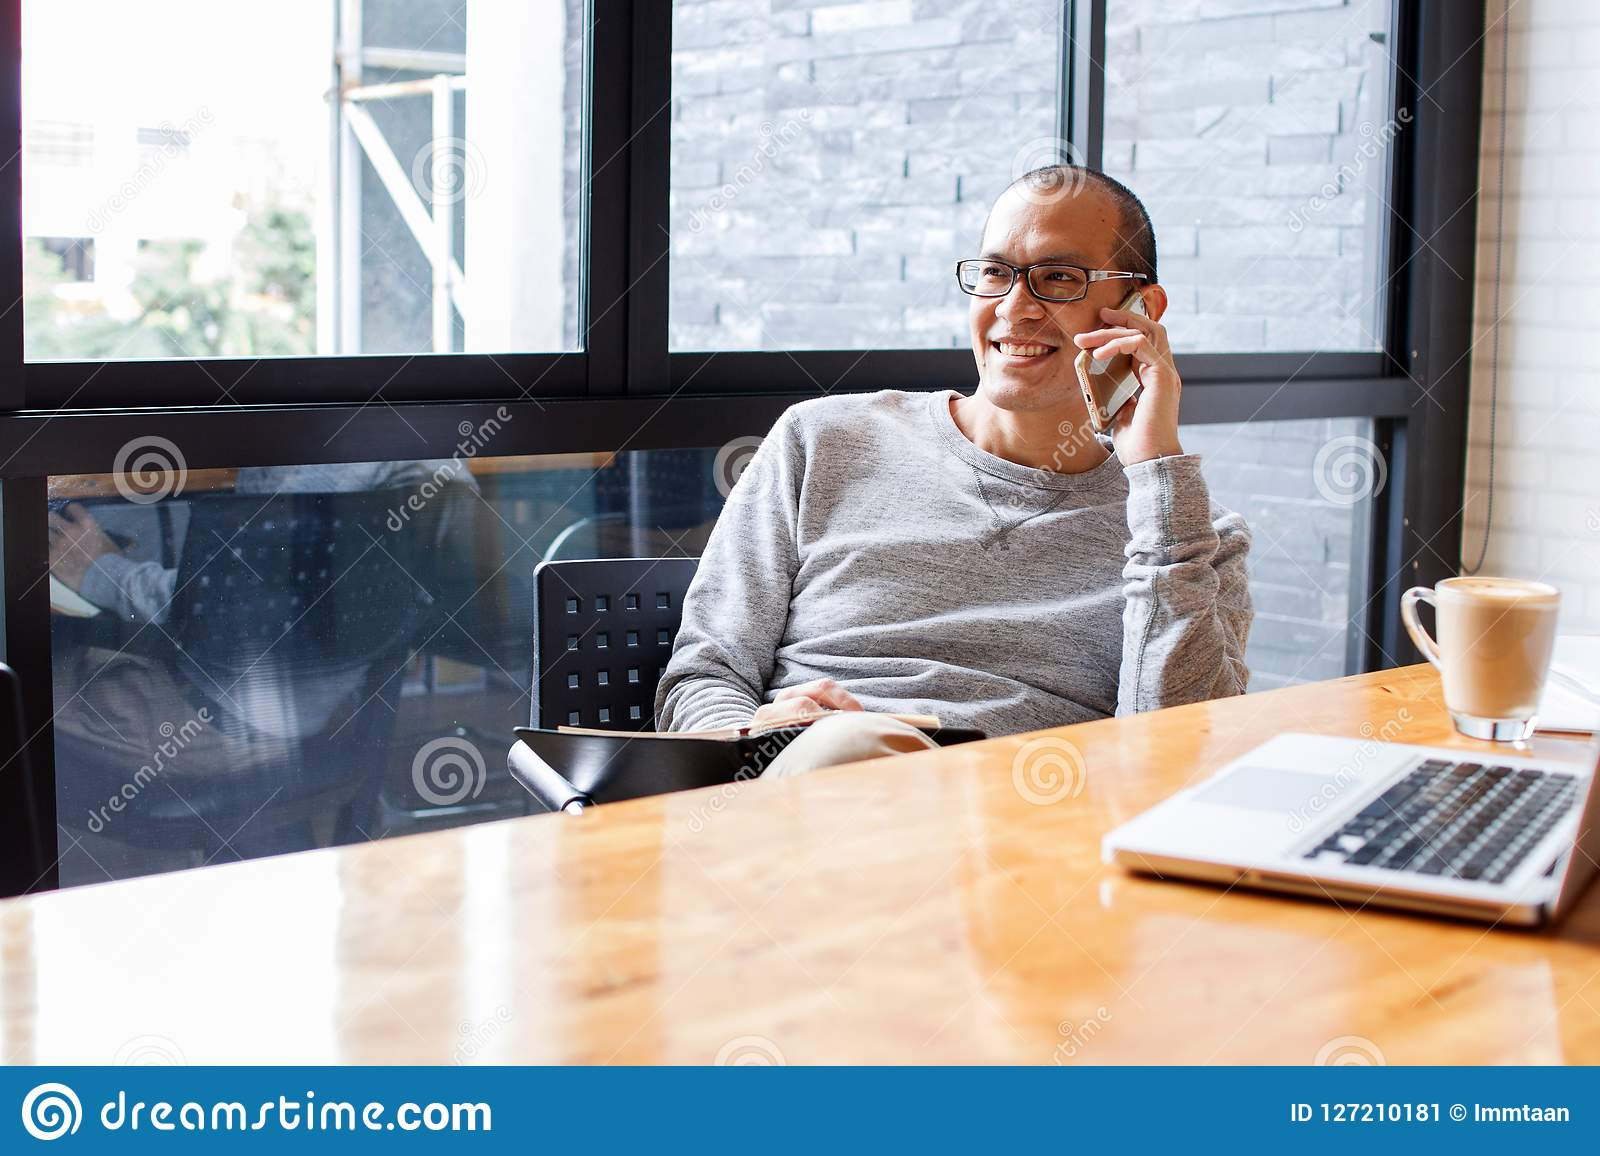phone: (1077, 296, 1152, 435)
talk: (971, 241, 1183, 459)
